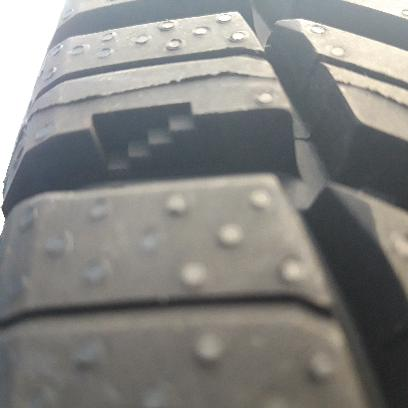temoin:100: (87, 100, 224, 180)
